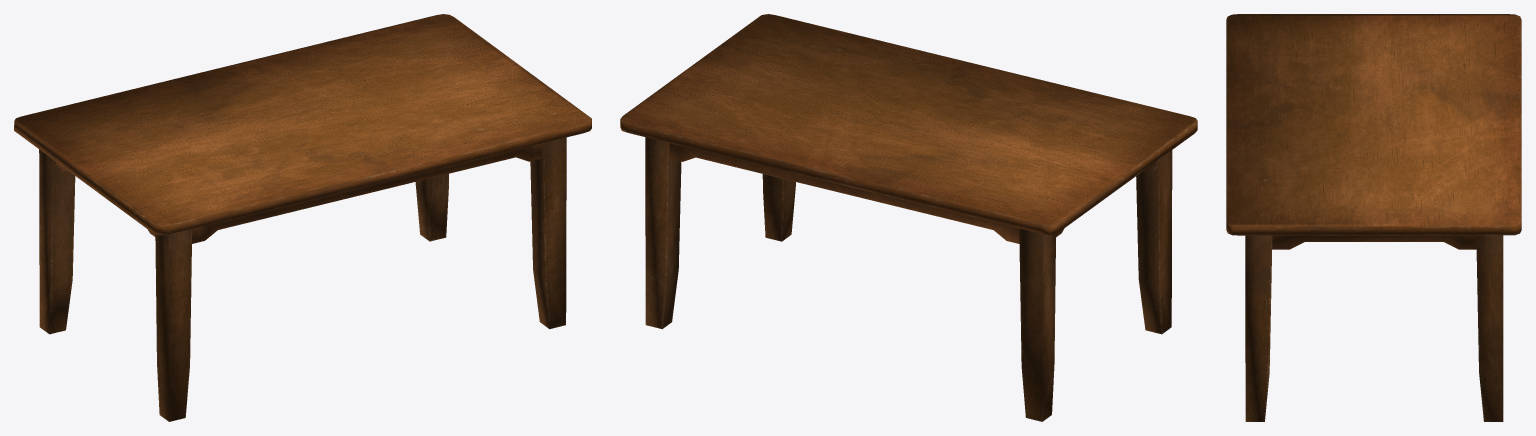
Rendered from Mesa.obj.
3 views of the same model, side by side, from view 1: azimuth 30°, elevation 25°; view 2: azimuth 150°, elevation 25°; view 3: azimuth 270°, elevation 25° (orthographic).
Visible parts, largest first — view 1: old_table; view 2: old_table; view 3: old_table.
Boxes of the visible parts, x1,y1,x2,y2 form: old_table: [14, 14, 591, 421]; old_table: [620, 14, 1197, 421]; old_table: [1226, 14, 1521, 421].
Bounding box in the file's own units: 156 × 70.39 × 91.75.
